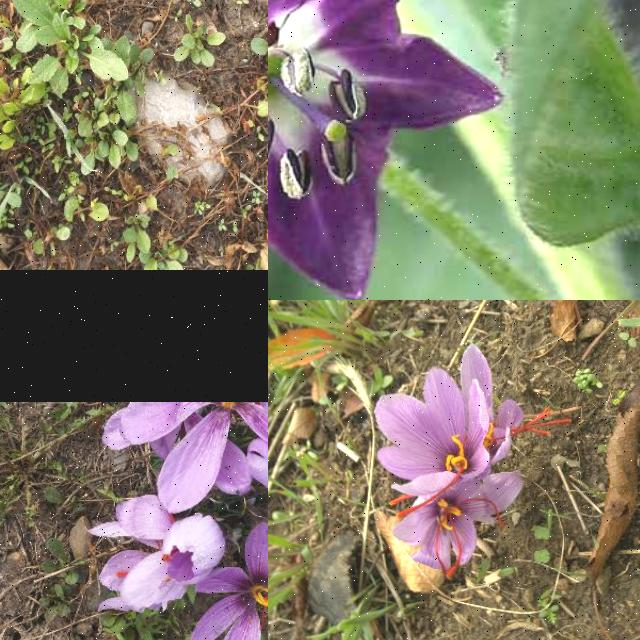flower: (190, 522, 268, 640), (161, 514, 225, 586)
overlap: (373, 344, 573, 580), (86, 402, 268, 640)
